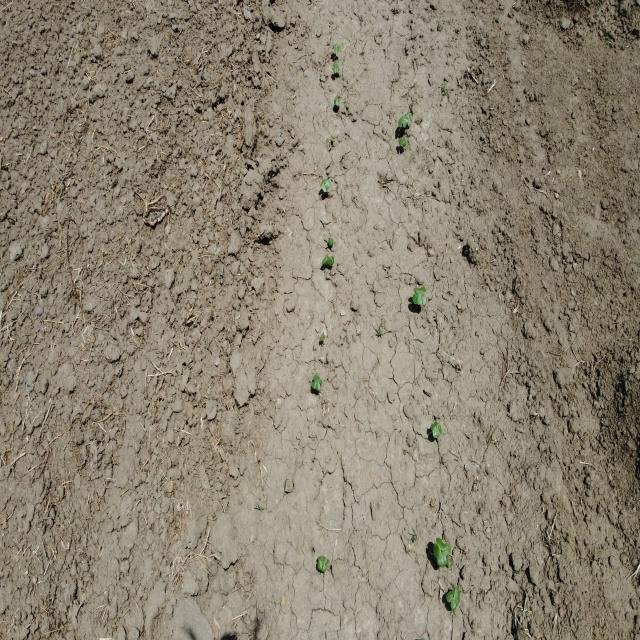seedling_s3: (433, 543, 447, 568), (436, 537, 450, 555), (451, 588, 460, 611), (413, 292, 426, 305), (433, 424, 442, 439), (446, 588, 455, 602), (317, 561, 326, 573), (318, 556, 329, 565), (322, 180, 330, 192), (313, 375, 323, 384), (312, 381, 321, 391), (414, 286, 426, 293), (320, 178, 329, 187), (398, 115, 404, 126), (403, 115, 408, 128), (431, 421, 438, 430), (329, 255, 334, 266), (325, 254, 330, 265), (406, 112, 412, 121), (334, 98, 340, 106), (319, 334, 325, 342), (322, 255, 327, 264), (402, 138, 407, 147), (328, 239, 334, 246), (335, 45, 340, 53), (398, 138, 403, 146), (332, 65, 336, 73), (332, 43, 337, 49), (336, 64, 340, 71)
